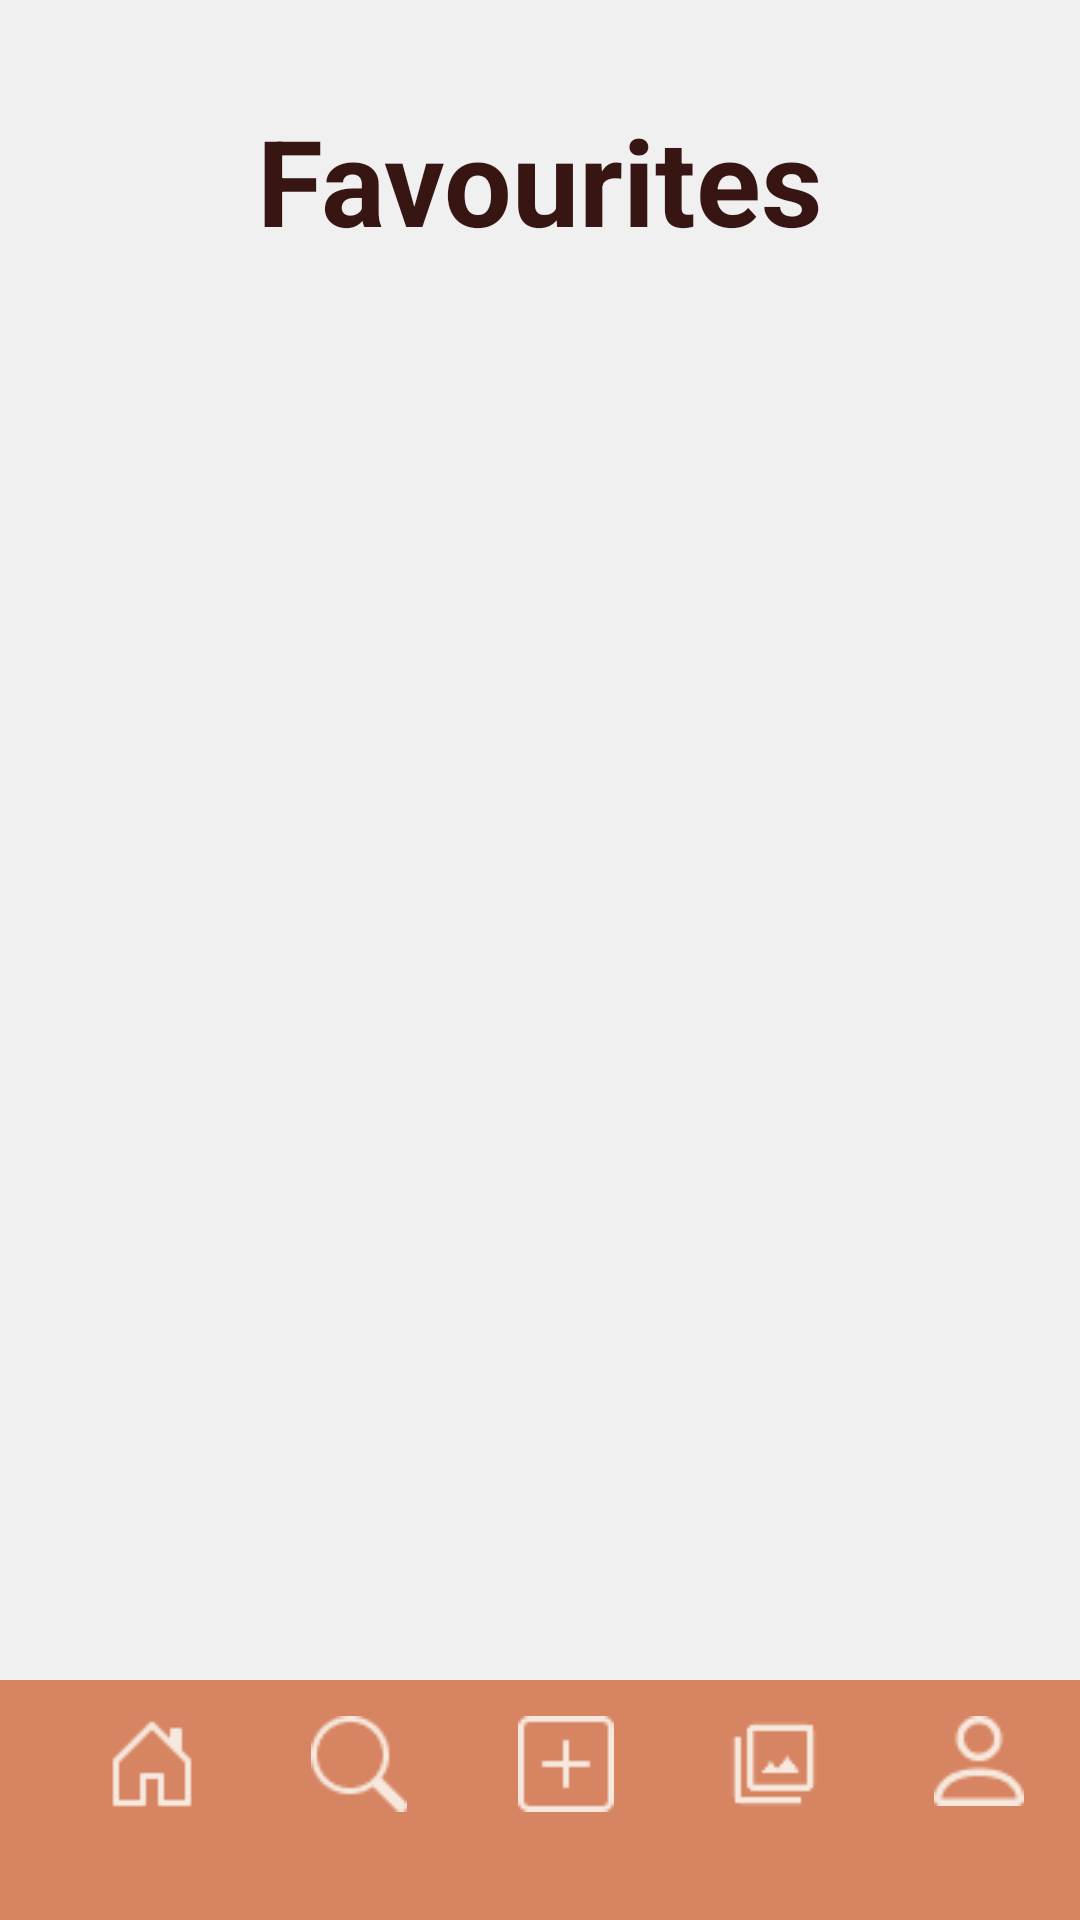

Locate icon controls on the screen. Image size 1080x1920, boxes as (x1, y1, x2, y2).
house: (112, 1721, 192, 1807)
person: (934, 1716, 1024, 1806)
plus square: (518, 1716, 614, 1812)
search: (311, 1716, 407, 1812)
